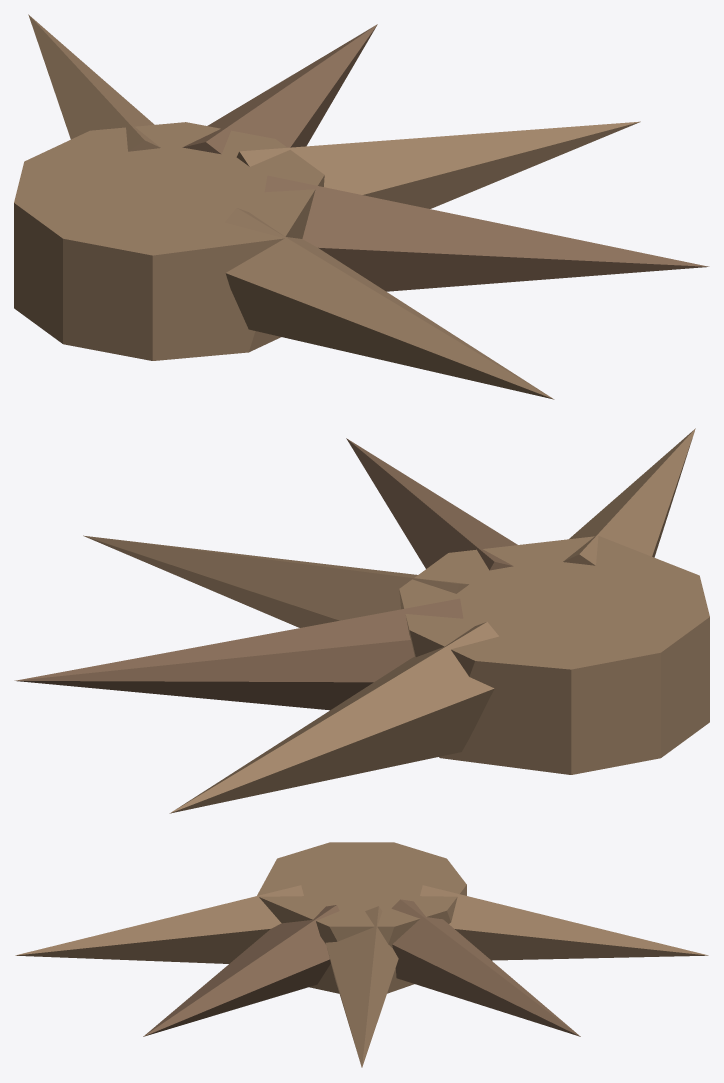
File: 50-Vegetacion_raices_expuestas.glb
3 renders of one model, top to bottom at view 1: azimuth 30°, elevation 25°; view 2: azimuth 150°, elevation 25°; view 3: azimuth 270°, elevation 25°, orthographic. The views are drawn at different scales.
Visible parts, largest first — view 1: SM_Raices_M_Raices_Corteza, SM_Raices_M_Raices_Corteza_Osc; view 2: SM_Raices_M_Raices_Corteza, SM_Raices_M_Raices_Corteza_Osc; view 3: SM_Raices_M_Raices_Corteza, SM_Raices_M_Raices_Corteza_Osc.
Boxes of the visible parts, x1,y1,x2,y2 form: SM_Raices_M_Raices_Corteza: (14,14,640,399); SM_Raices_M_Raices_Corteza_Osc: (182,24,709,291); SM_Raices_M_Raices_Corteza: (83,428,709,813); SM_Raices_M_Raices_Corteza_Osc: (14,438,517,710); SM_Raices_M_Raices_Corteza: (15,842,708,1067); SM_Raices_M_Raices_Corteza_Osc: (143,899,580,1036).
Bounding box in the file's own units: 1.32 × 0.24 × 1.99.
